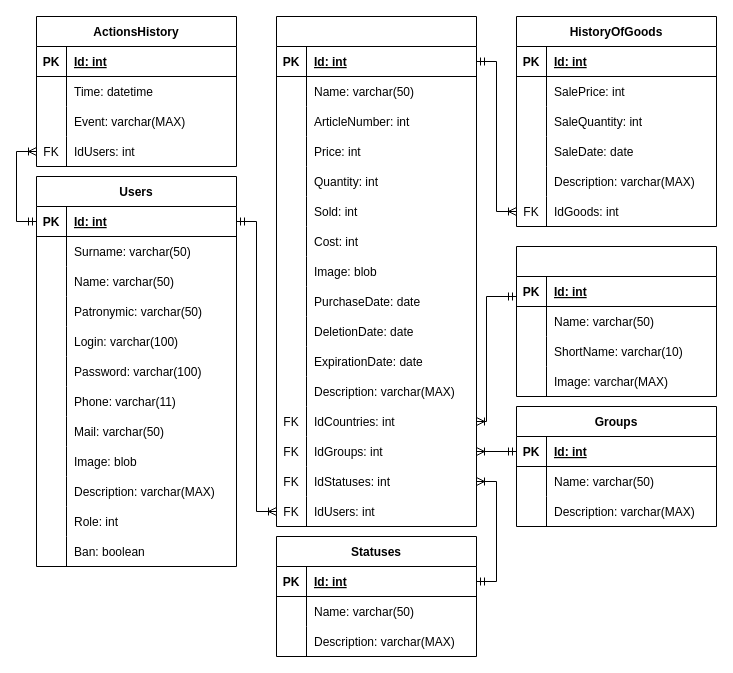
This 733x673 diagram has some shape labels left out. The shapes that lost their labels are listed below. From the top down, each one's box as (x1, y1, x2, y2) in pixels, then its label:
(276, 16, 476, 526): Goods
(516, 246, 716, 396): Countries
